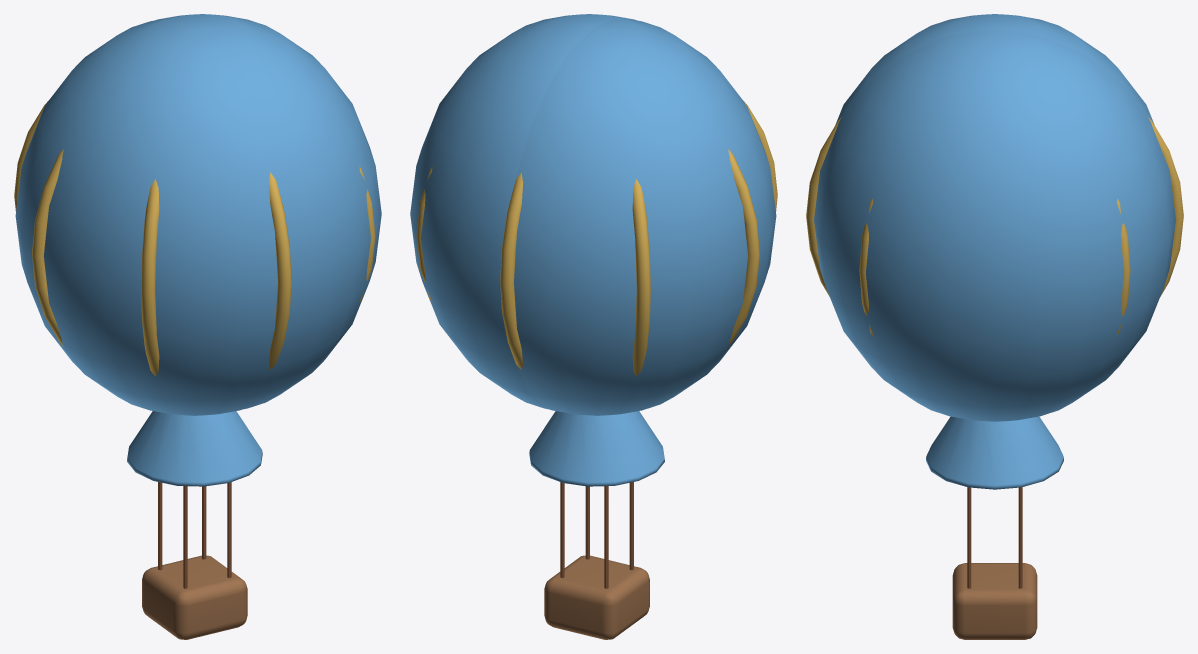
File: balloon_blue.glb
The picture shows the model from 3 angles, left to right: view 1: azimuth 30°, elevation 25°; view 2: azimuth 150°, elevation 25°; view 3: azimuth 270°, elevation 25°; orthographic projection.
Visible parts, largest first — view 1: Sphere; view 2: Sphere; view 3: Sphere.
Part boxes in pixels (<box>): Sphere: <box>14,14,381,639</box>; Sphere: <box>410,14,777,639</box>; Sphere: <box>806,14,1183,639</box>.
Bounding box in the file's own units: 0.628 × 1.1 × 0.626.
